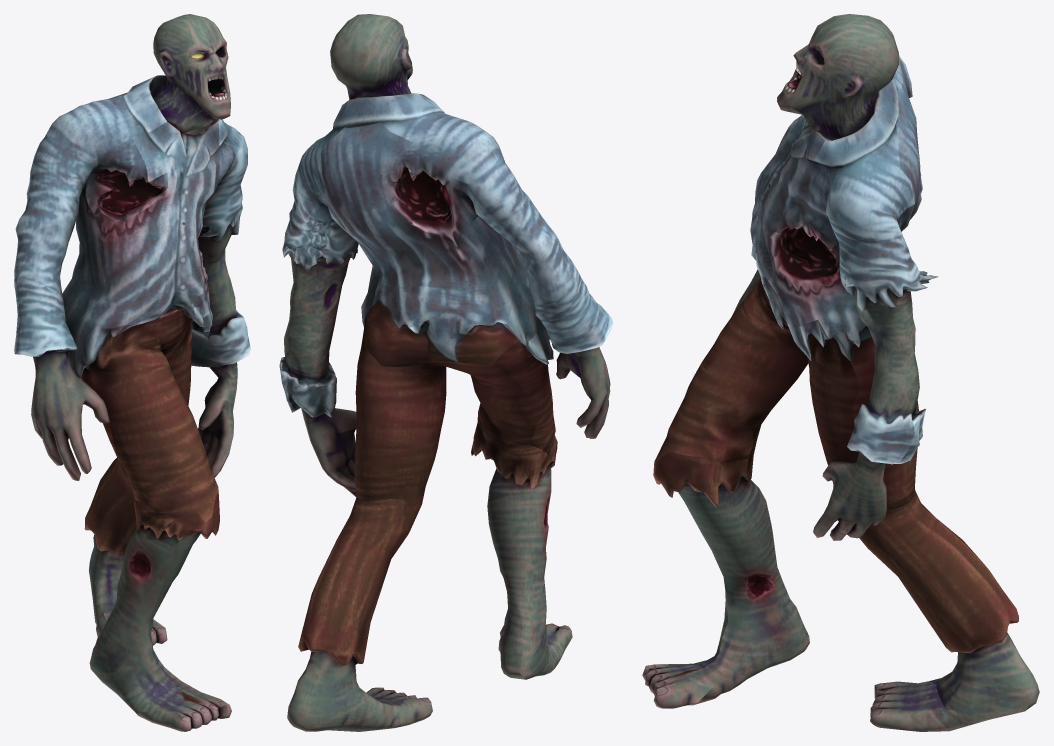
The model's file is Zombie Walker Male 02.glb.
3 renders of one model, left to right at view 1: azimuth 30°, elevation 25°; view 2: azimuth 150°, elevation 25°; view 3: azimuth 270°, elevation 25°, orthographic. The views are drawn at different scales.
Visible parts, largest first — view 1: body_low.001; view 2: body_low.001; view 3: body_low.001.
Boxes of the visible parts, x1,y1,x2,y2 form: body_low.001: [14, 14, 250, 731]; body_low.001: [279, 14, 613, 731]; body_low.001: [642, 14, 1039, 731].
Size of the model in its own units: 2.74 by 6.29 by 3.14.
1 material, 1 textured.
